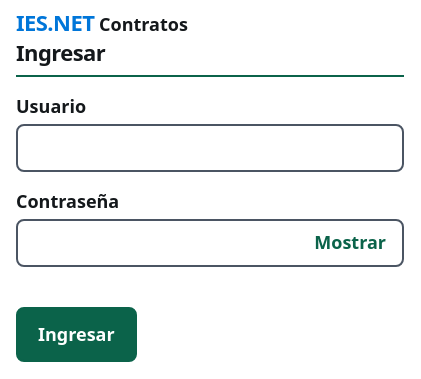
Test: PaginaLogin — mostrar u ocultar la contraseña › reveals the typed password, and hides it again
Type "unaLarguísima" into the password field labelled "Contraseña" at point(210, 243), box x1=16 y1=219 x2=404 y2=267
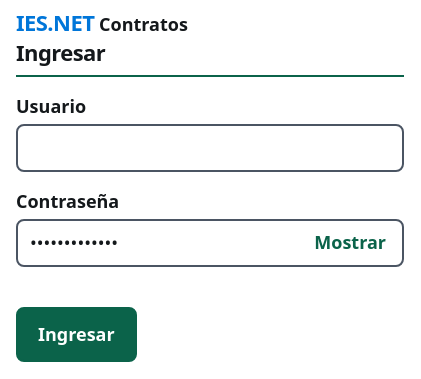
Click the button with aria-label "Mostrar contraseña" at point(350, 243), box x1=296 y1=219 x2=404 y2=267
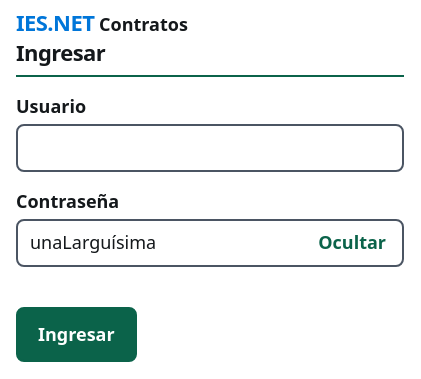
Check: the field labelled "Contraseña" shows its text, box x1=16 y1=219 x2=404 y2=267
Click the button with aria-label "Ocultar contraseña" at point(352, 243), box x1=300 y1=219 x2=404 y2=267
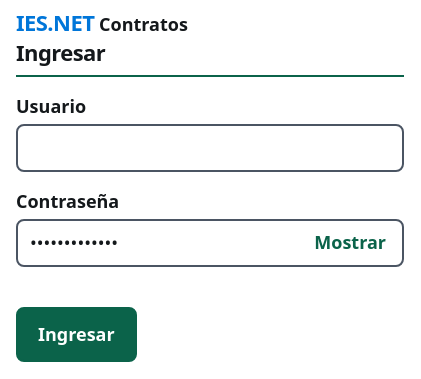
Check: the password field labelled "Contraseña" hides its text, box x1=16 y1=219 x2=404 y2=267
